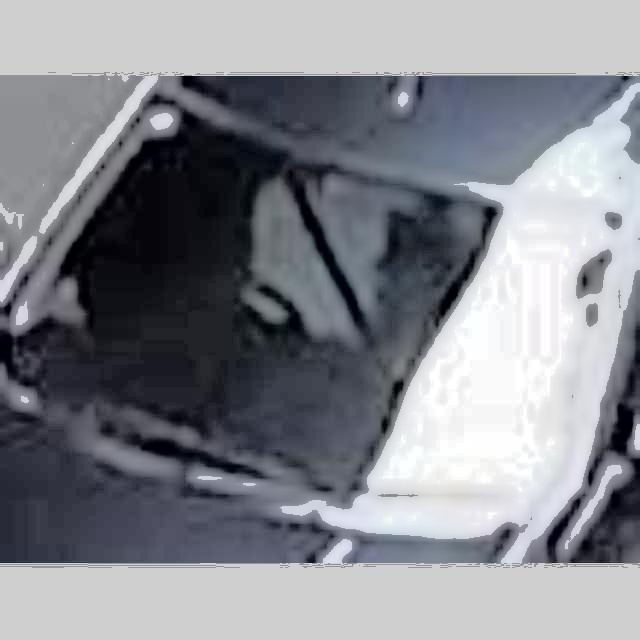pakai: (159, 105, 399, 387)
